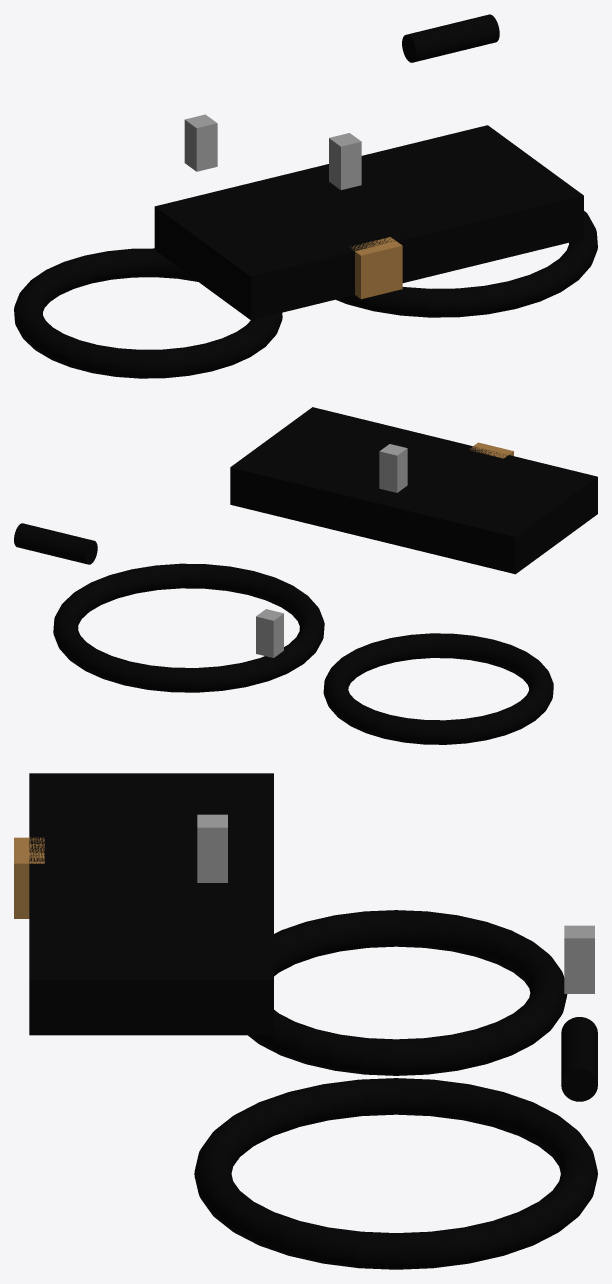
Rendered from bicycle.glb.
3 views of the same model, one above another, from view 1: azimuth 30°, elevation 25°; view 2: azimuth 150°, elevation 25°; view 3: azimuth 270°, elevation 25° (orthographic). The views are drawn at different scales.
Visible parts, largest first — view 1: geometry_0, geometry_3, geometry_4, geometry_1, geometry_2; view 2: geometry_0, geometry_3, geometry_4, geometry_1; view 3: geometry_0, geometry_3, geometry_4, geometry_1, geometry_2.
Part boxes in pixels (left/top/right/bottom): geometry_0: left=154, top=125, right=583, bottom=320; geometry_3: left=14, top=211, right=597, bottom=378; geometry_4: left=184, top=114, right=361, bottom=189; geometry_1: left=402, top=14, right=499, bottom=62; geometry_2: left=350, top=237, right=402, bottom=299; geometry_0: left=230, top=407, right=597, bottom=574; geometry_3: left=53, top=563, right=553, bottom=744; geometry_4: left=256, top=444, right=407, bottom=657; geometry_1: left=14, top=523, right=97, bottom=564; geometry_0: left=29, top=773, right=273, bottom=1035; geometry_3: left=194, top=910, right=597, bottom=1269; geometry_4: left=197, top=814, right=594, bottom=993; geometry_1: left=561, top=1017, right=597, bottom=1101; geometry_2: left=14, top=837, right=44, bottom=918.
Bounding box in the file's own units: 1.31 × 0.48 × 0.955.
